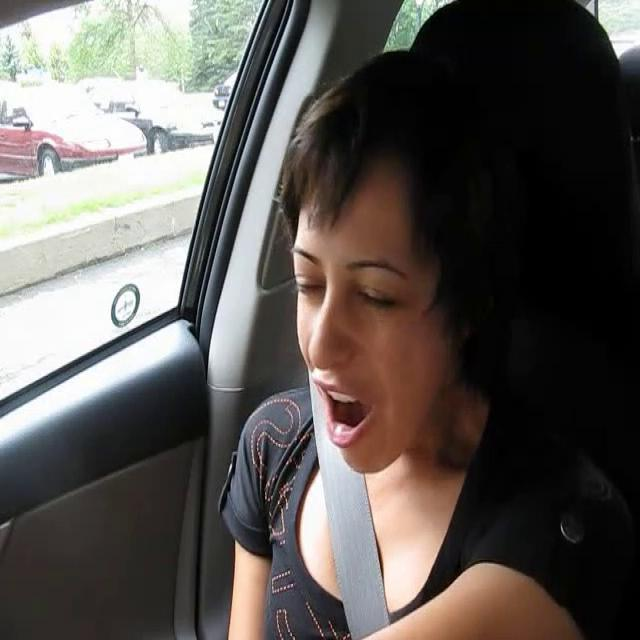close: (346, 252, 412, 321), (288, 238, 324, 306)
